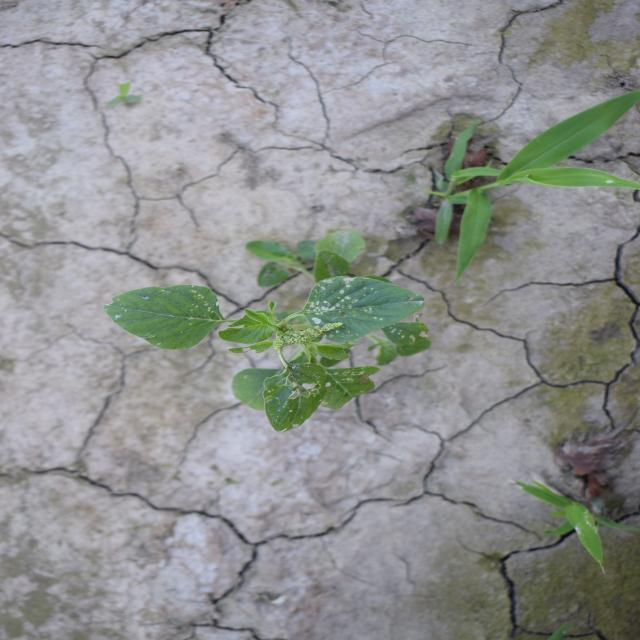PalmerAmaranth: (99, 227, 437, 435)
